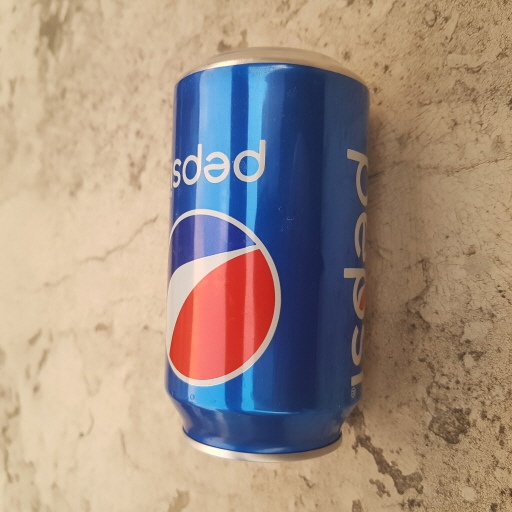Metal_0: (155, 46, 373, 464)
